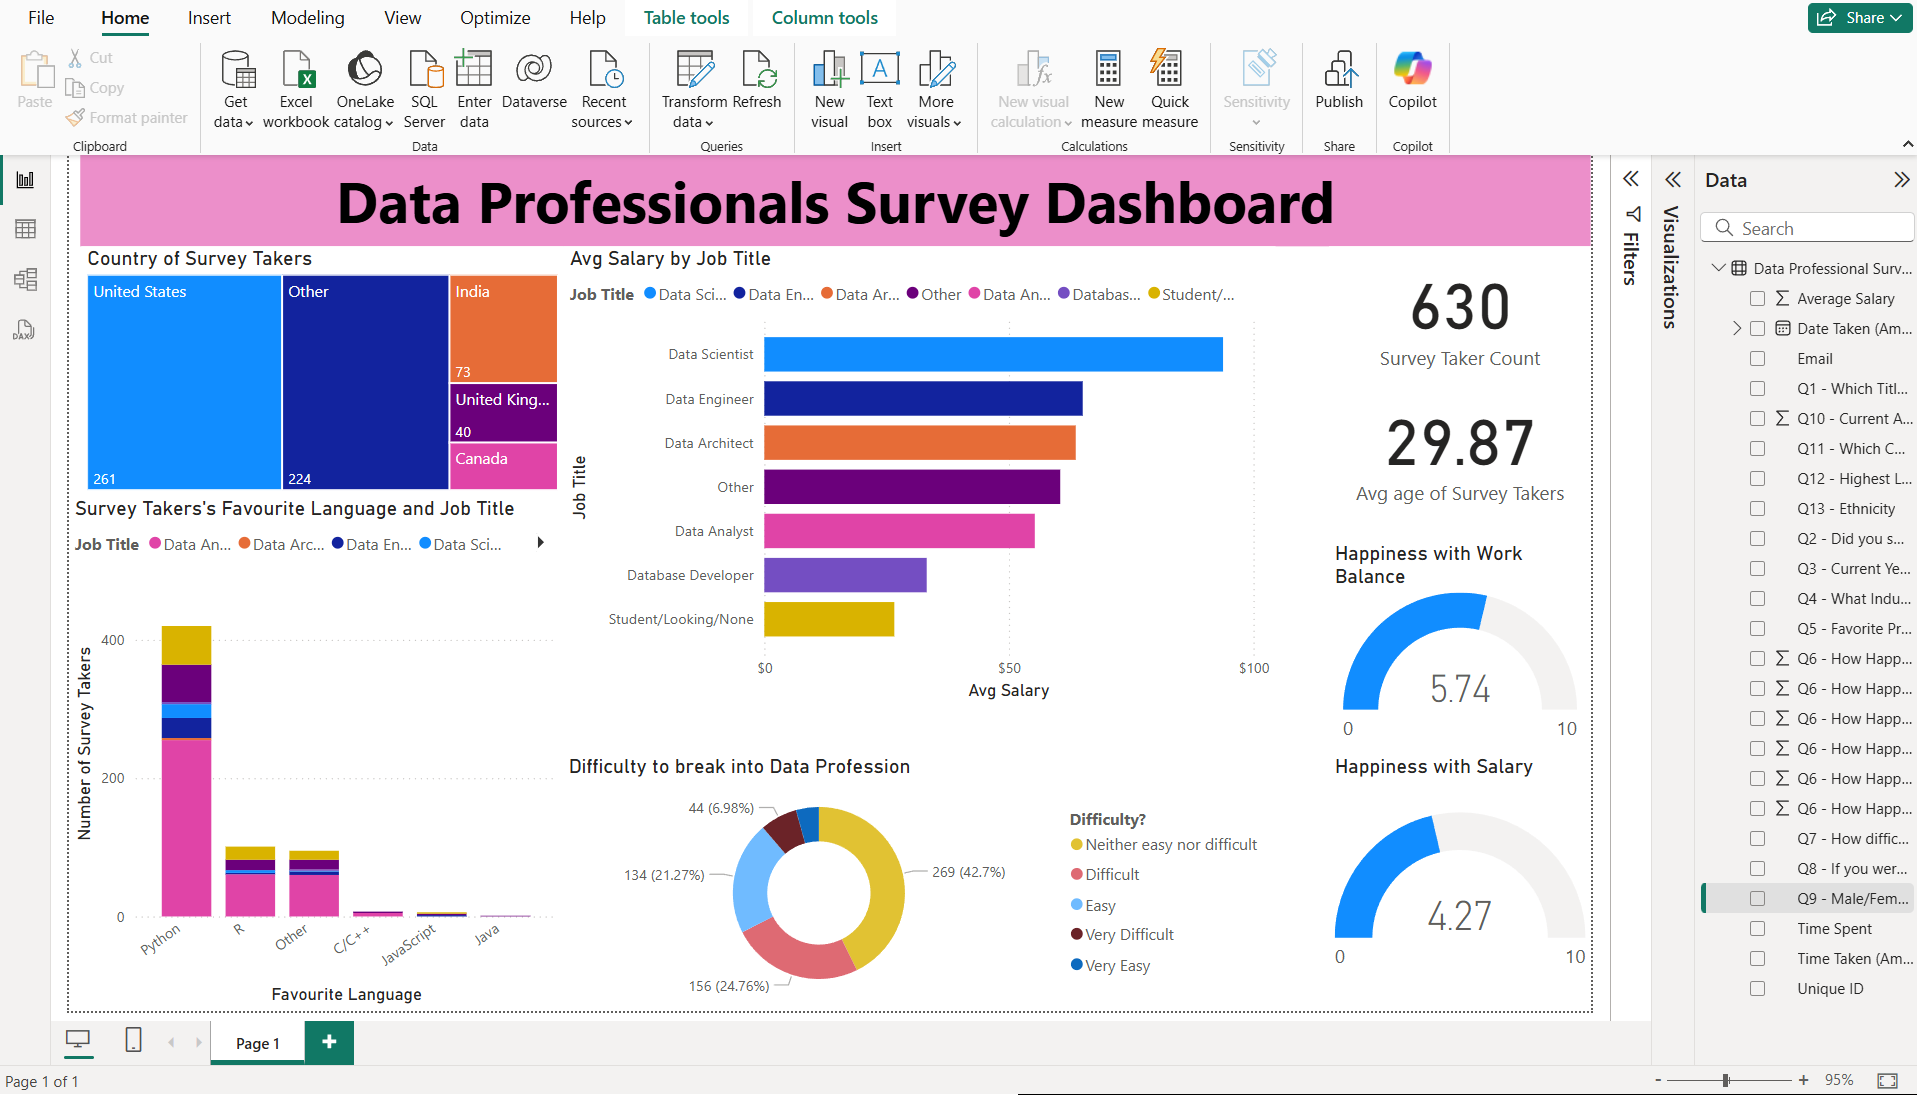

What the dashboard file says about the page in this screenshot:
{"tool":"powerbi","page":{"name":"Page 1","canvas":[1280,720],"ordinal":0},"visuals":[{"type":"textbox","box":[9.6,0,1270.7,76.8],"z":0},{"type":"card","fields":{"Values":["Count(Data Professional Survey.Unique ID)"]},"box":[1059.4,76.8,220.9,109.8],"z":1000},{"type":"card","fields":{"Values":["Avg(Data Professional Survey.Q10 - Current Age)"]},"box":[1059.4,186.6,220.9,119.4],"z":2000},{"type":"barChart","title":"Avg Salary by Job Title","fields":{"Y":["Avg(Data Professional Survey.Average Salary)"],"Category":["Data Professional Survey.Q1 - Which Title Best Fits your Current Role?.1"],"Series":["Data Professional Survey.Q1 - Which Title Best Fits your Current Role?.1"]},"box":[416.2,76.5,598.5,386.8],"z":3000},{"type":"treemap","title":"Country of Survey Takers","fields":{"Group":["Data Professional Survey.Q11 - Which Country do you live in?.1.1"],"Values":["CountNonNull(Data Professional Survey.Q11 - Which Country do you live in?.1.1)"]},"box":[10.3,76.5,405.9,210.3],"z":4000},{"type":"columnChart","title":"Survey Takers''s Favourite Language and Job Title","fields":{"Category":["Data Professional Survey.Q5 - Favorite Programming Language.1"],"Y":["CountNonNull(Data Professional Survey.Unique ID)"],"Series":["Data Professional Survey.Q1 - Which Title Best Fits your Current Role?.1"]},"box":[0,286.8,416.2,432.4],"z":5000},{"type":"gauge","title":"Happiness with Salary","fields":{"Y":["Avg(Data Professional Survey.Q6 - How Happy are you in your Current Position with the following? (Salary))"],"MinValue":["Min(Data Professional Survey.Q6 - How Happy are you in your Current Position with the following? (Salary))"],"MaxValue":["Max(Data Professional Survey.Q6 - How Happy are you in your Current Position with the following? (Salary))"]},"box":[1059.4,503.6,220.9,216.8],"z":6000},{"type":"gauge","title":"Happiness with Work Balance","fields":{"Y":["Avg(Data Professional Survey.Q6 - How Happy are you in your Current Position with the following? (Work/Life Balance))"],"MinValue":["Min(Data Professional Survey.Q6 - How Happy are you in your Current Position with the following? (Work/Life Balance))"],"MaxValue":["Max(Data Professional Survey.Q6 - How Happy are you in your Current Position with the following? (Work/Life Balance))"]},"box":[1059.4,325.2,220.9,178.4],"z":7000},{"type":"donutChart","title":"Difficulty to break into Data Profession","fields":{"Category":["Data Professional Survey.Q7 - How difficult was it for you to break into Data?"],"Y":["CountNonNull(Data Professional Survey.Q7 - How difficult was it for you to break into Data?)"]},"box":[415.8,503.6,598.3,215.4],"z":8000}]}

Visuals, with their boxes on the page's 1280x720 design canvas (x1, y1, x2, y2). These are canvas units, not pixel positions in the 1917x1095 screenshot, which may show the page scaled, cropped or inside an application window:
textbox: x1=10 y1=0 x2=1280 y2=77
card - Count(Data Professional Survey.Unique ID): x1=1059 y1=77 x2=1280 y2=187
card - Avg(Data Professional Survey.Q10 - Current Age): x1=1059 y1=187 x2=1280 y2=306
"Avg Salary by Job Title" barChart: x1=416 y1=76 x2=1015 y2=463
"Country of Survey Takers" treemap: x1=10 y1=76 x2=416 y2=287
"Survey Takers''s Favourite Language and Job Title" columnChart: x1=0 y1=287 x2=416 y2=719
"Happiness with Salary" gauge: x1=1059 y1=504 x2=1280 y2=720
"Happiness with Work Balance" gauge: x1=1059 y1=325 x2=1280 y2=504
"Difficulty to break into Data Profession" donutChart: x1=416 y1=504 x2=1014 y2=719
